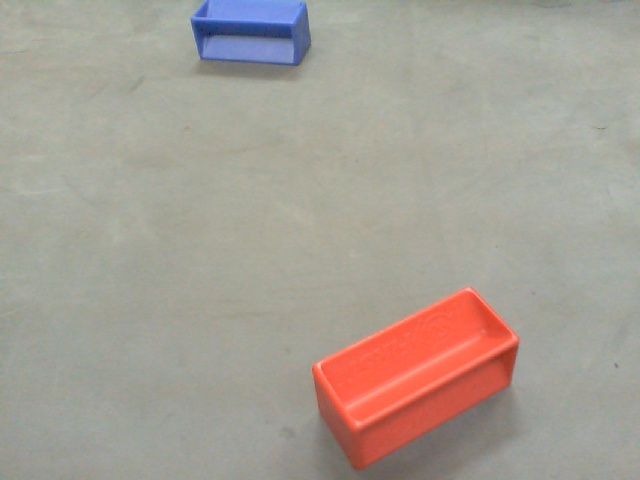BlueSample: (186, 1, 314, 69)
RedSample: (308, 283, 521, 471)
